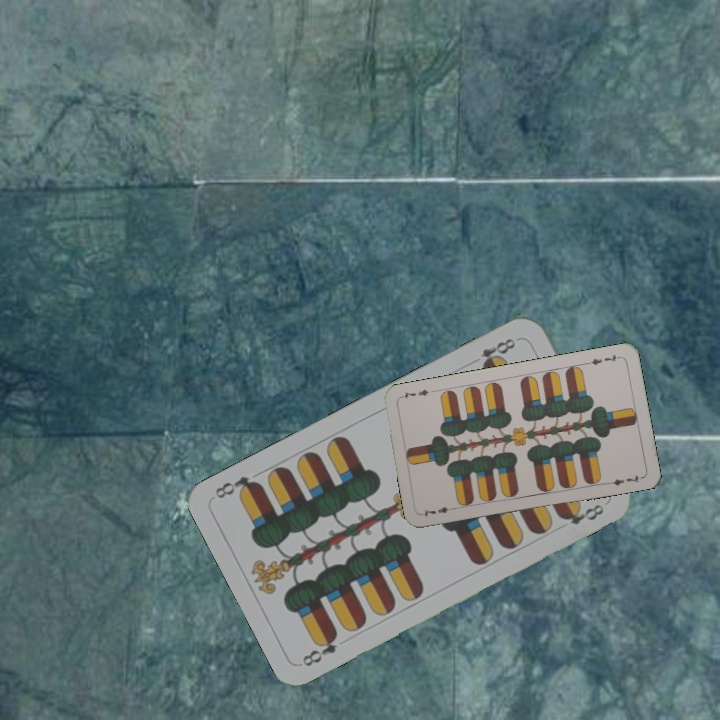E7: (418, 503, 459, 520), (583, 350, 623, 367)
E8: (467, 334, 518, 372), (298, 628, 341, 669)
